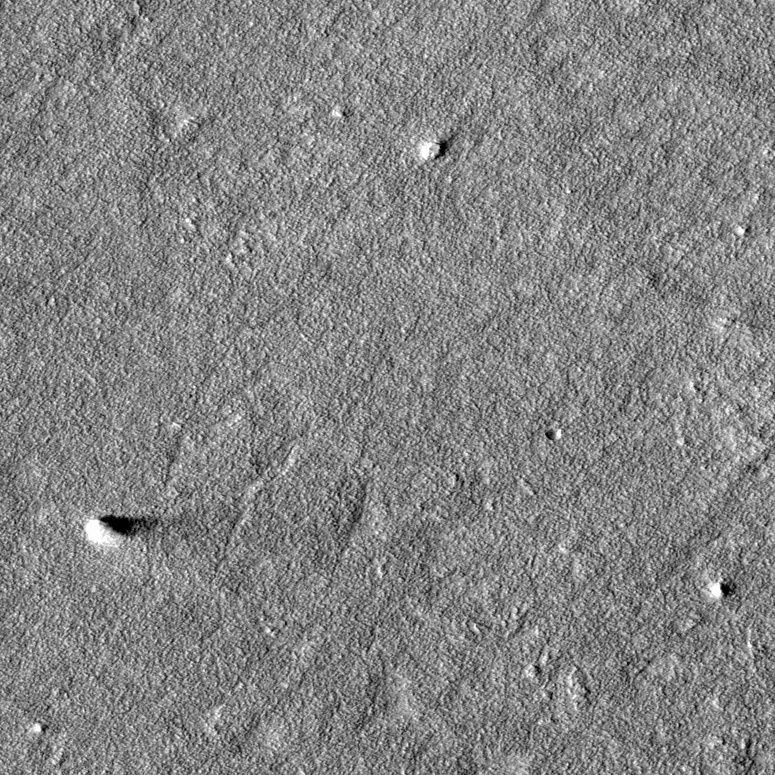dust_devil: (82, 513, 165, 549)
